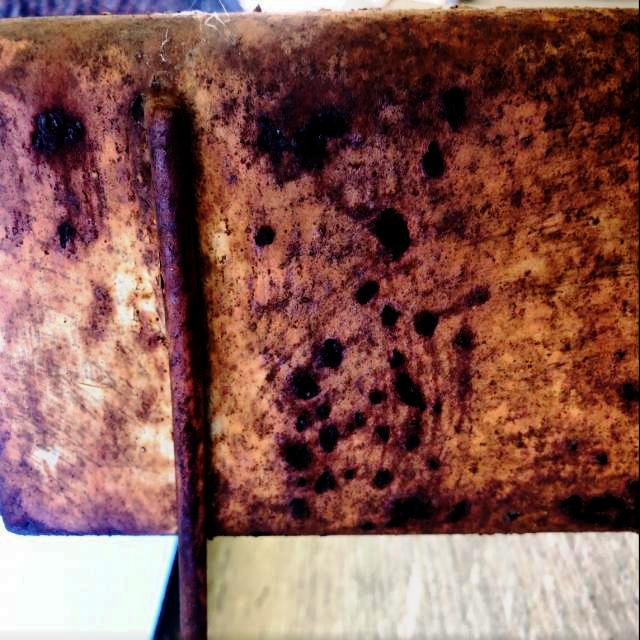Corrosion: (0, 5, 639, 640)
